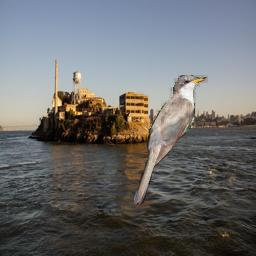Cuckoo: (134, 75, 208, 205)
